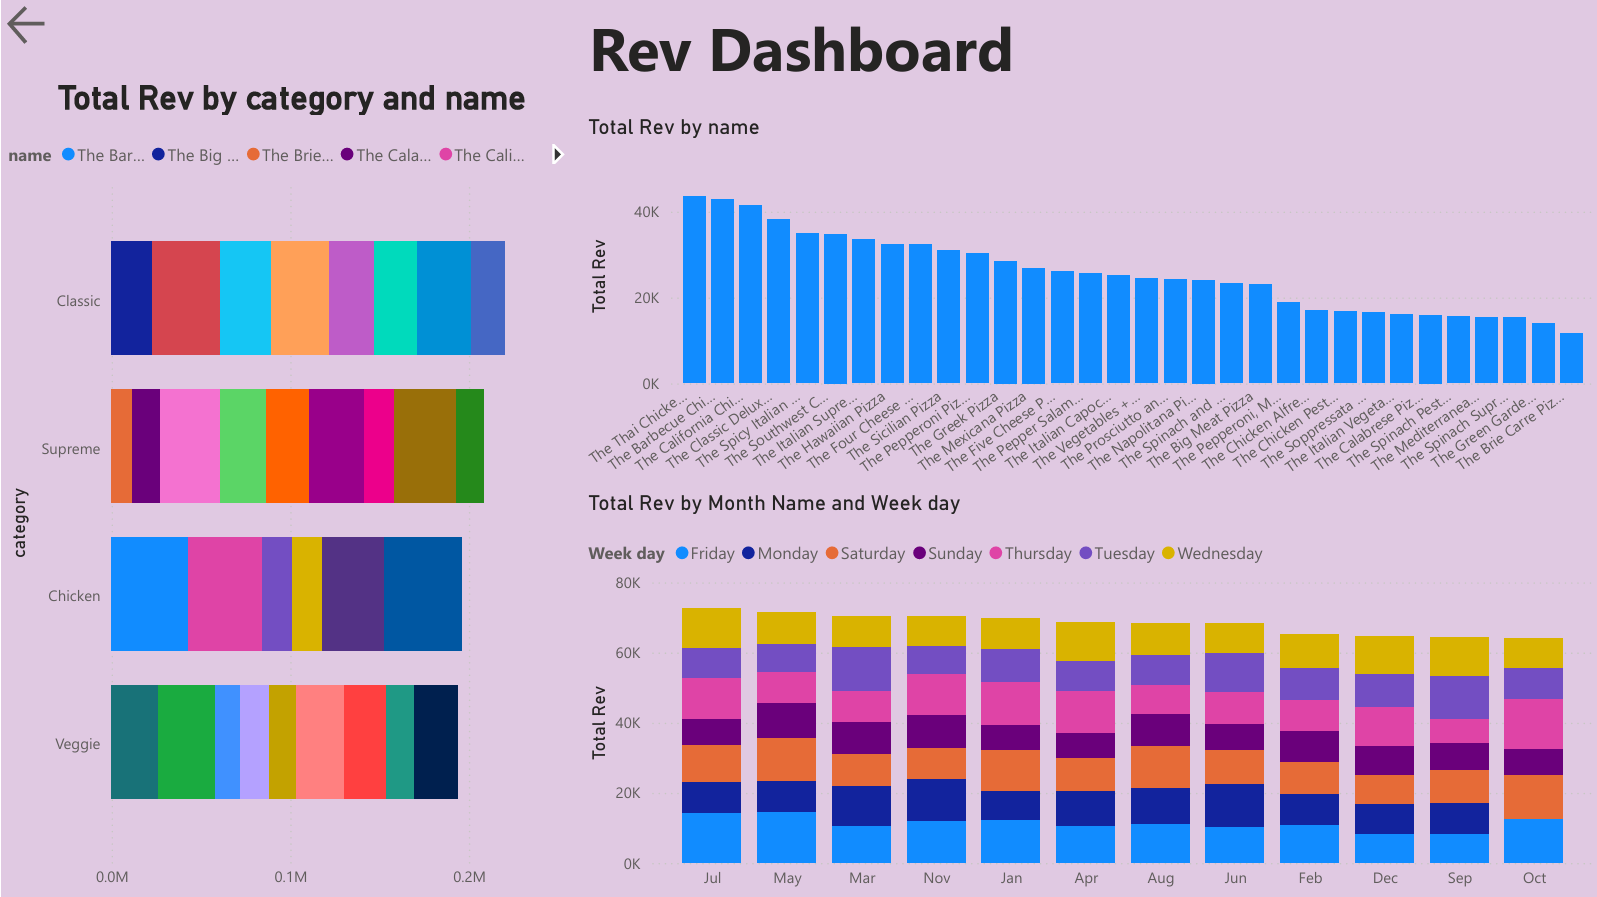

The dashboard page shown, as its layout file describes it:
{"tool":"powerbi","page":{"name":"Revenue","canvas":[1280,720],"ordinal":2},"visuals":[{"type":"textbox","box":[380.4,0,518.3,90.3],"z":2000},{"type":"actionButton","box":[0,0,48.9,39.9],"z":6000},{"type":"barChart","fields":{"Category":["pizza_types.category"],"Y":["order_details.Total Rev"],"Series":["pizza_types.name"]},"box":[0,61.6,463.9,657.8],"z":6001},{"type":"columnChart","fields":{"Y":["order_details.Total Rev"],"Category":["pizza_types.name"]},"box":[463.9,90.6,815.4,300.8],"z":6002},{"type":"columnChart","fields":{"Category":["orders.Month Name"],"Y":["order_details.Total Rev"],"Series":["orders.Week day"]},"box":[464,392,815,328],"z":6003}]}

Visuals, with their boxes in screenshot pixels (x1, y1, x2, y2), scaled from the page's 1280x720 canvas onto the 1597x897 screenshot:
textbox: box=[475, 0, 1121, 112]
actionButton: box=[0, 0, 61, 50]
barChart - pizza_types.category x order_details.Total Rev: box=[0, 77, 579, 896]
columnChart - order_details.Total Rev x pizza_types.name: box=[579, 113, 1596, 488]
columnChart - orders.Month Name x order_details.Total Rev: box=[579, 488, 1596, 896]
